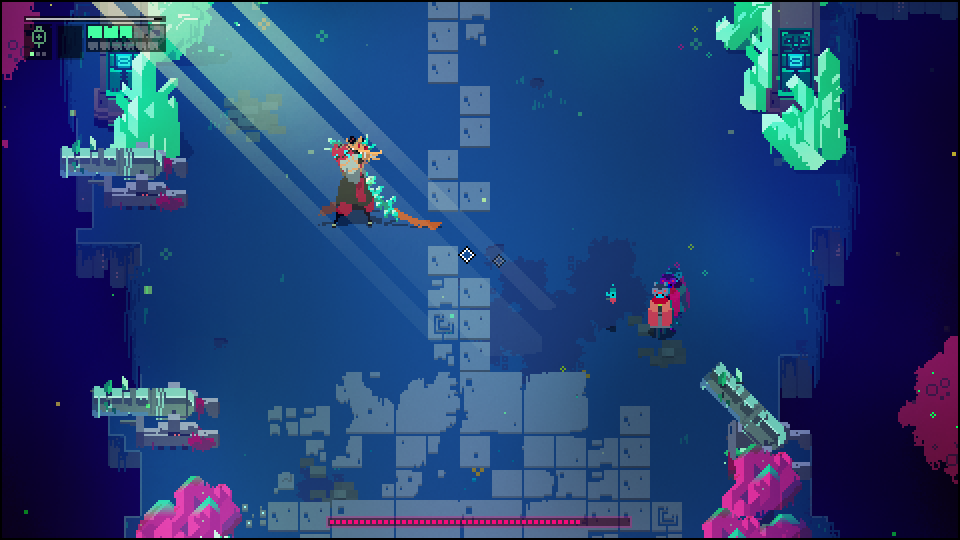hanged_man: (318, 130, 404, 236)
player: (643, 282, 678, 346)
